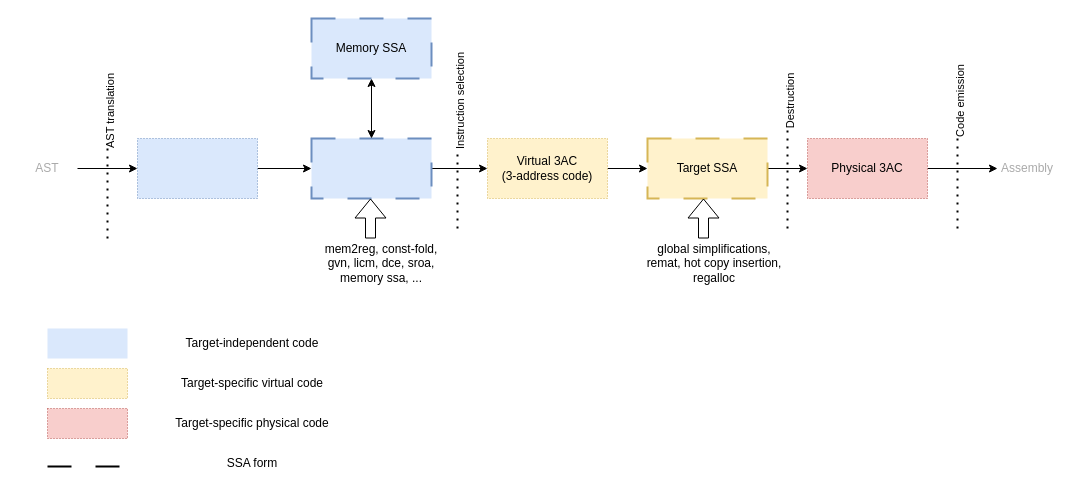
Image size: 1074x495. Some labels were removed from this diagram. The centre of each missing label's shape, as x and y in pixels:
Optimizer SSA: the point at 371,168
Stack-based IR: the point at 197,168
